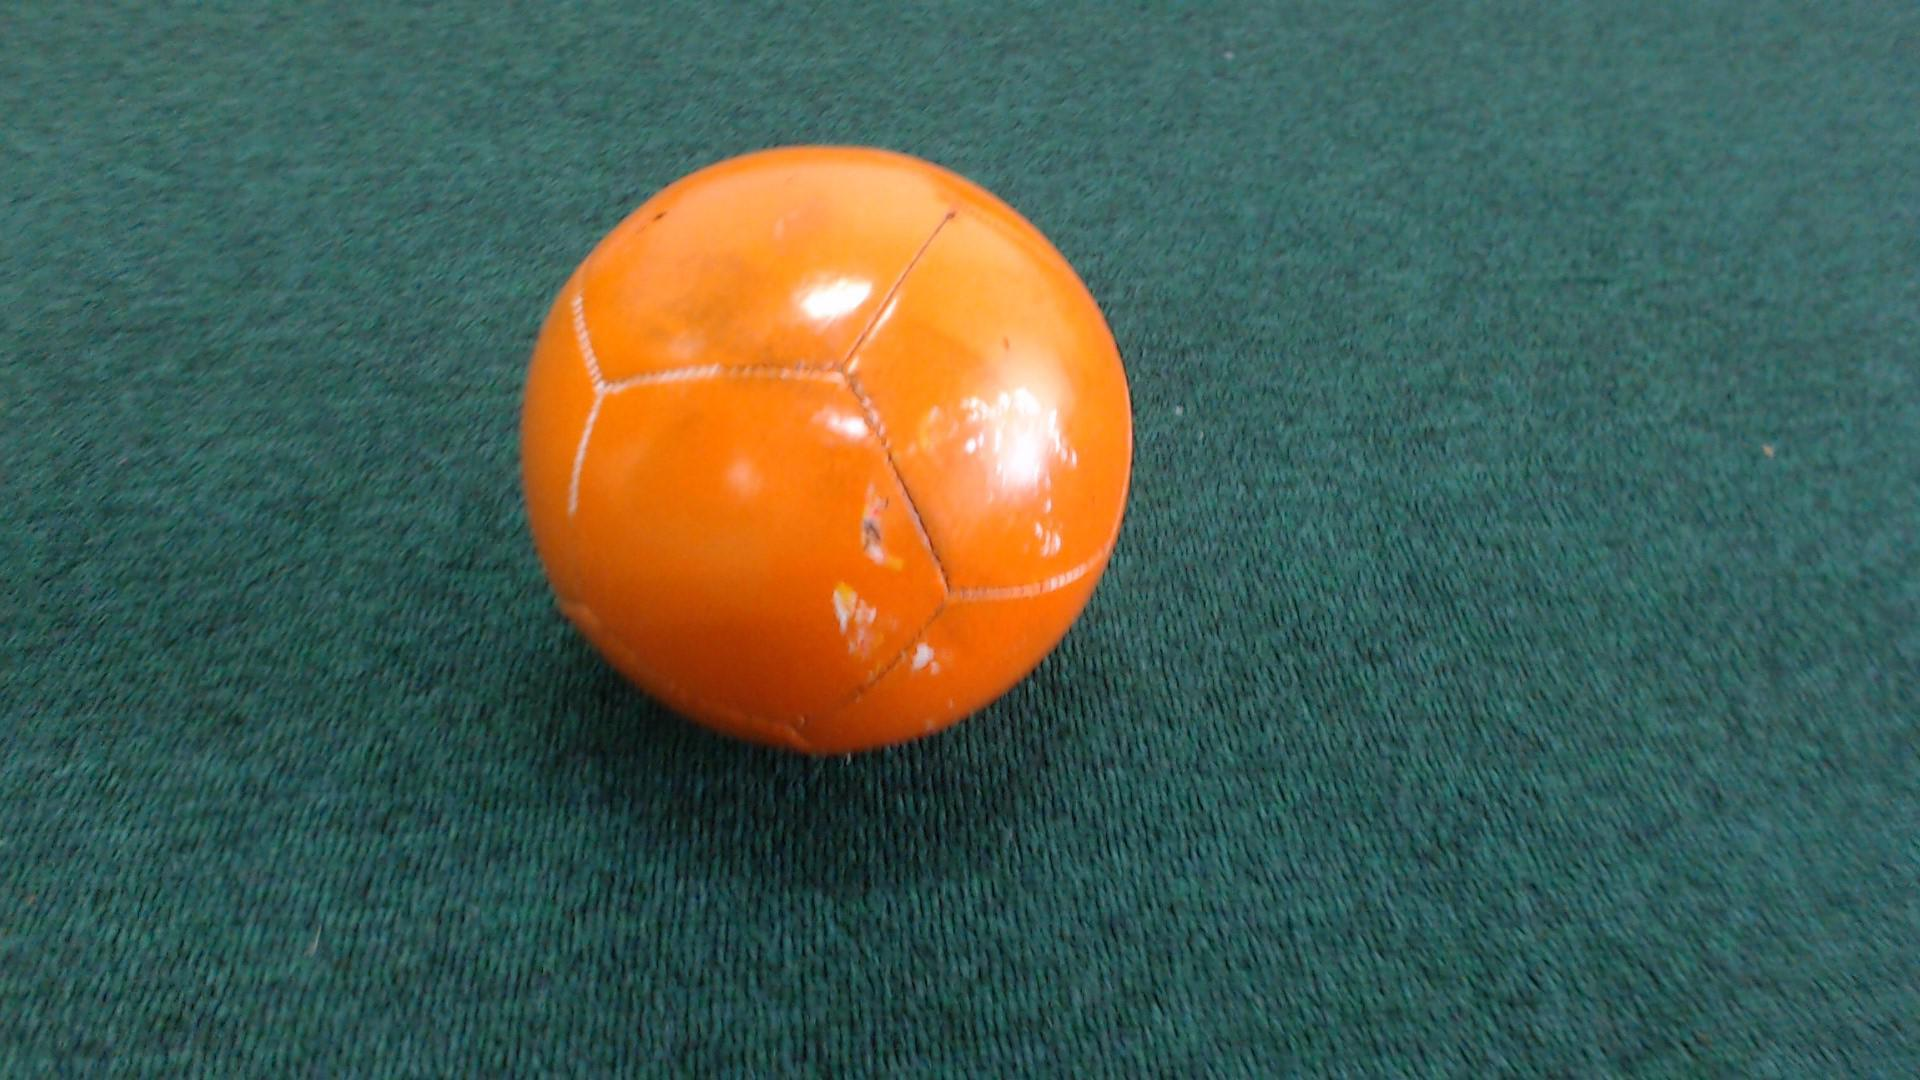bola: (512, 162, 1150, 822)
